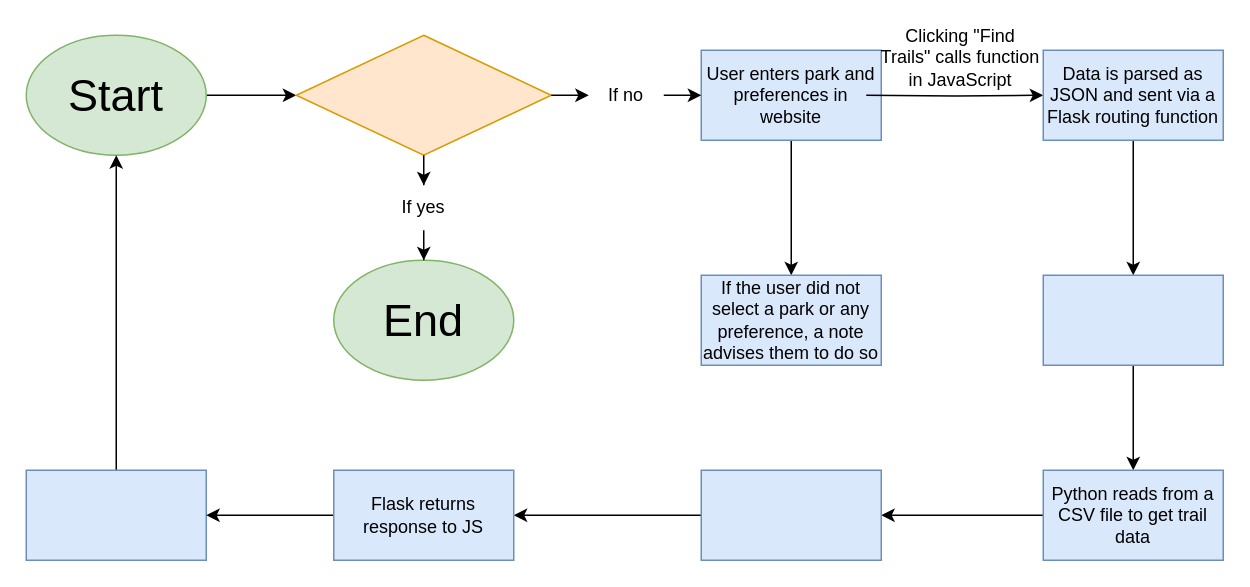
This 1250x587 diagram has some shape labels left out. Here are the shapes that lost their labels. From the top down, the centre of each, then its label:
At (x=423, y=94): "If user presses Ctrl-C in the terminal".
At (x=1132, y=319): "Flask parses & sends data over to preferences.py to validate park/trail data".
At (x=115, y=514): "Result is returned to the user in a textbox".
At (x=790, y=514): "JSON containing the matching trails or empty JSON is returned to Flask".
